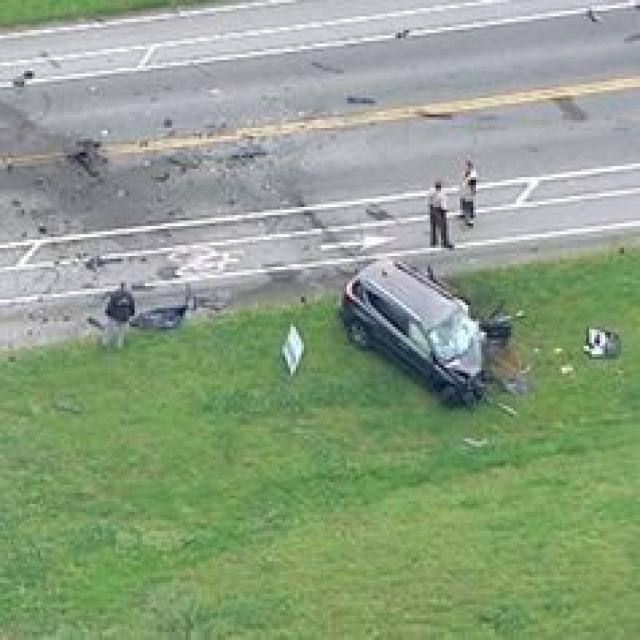traffic_incident: (334, 254, 514, 412)
